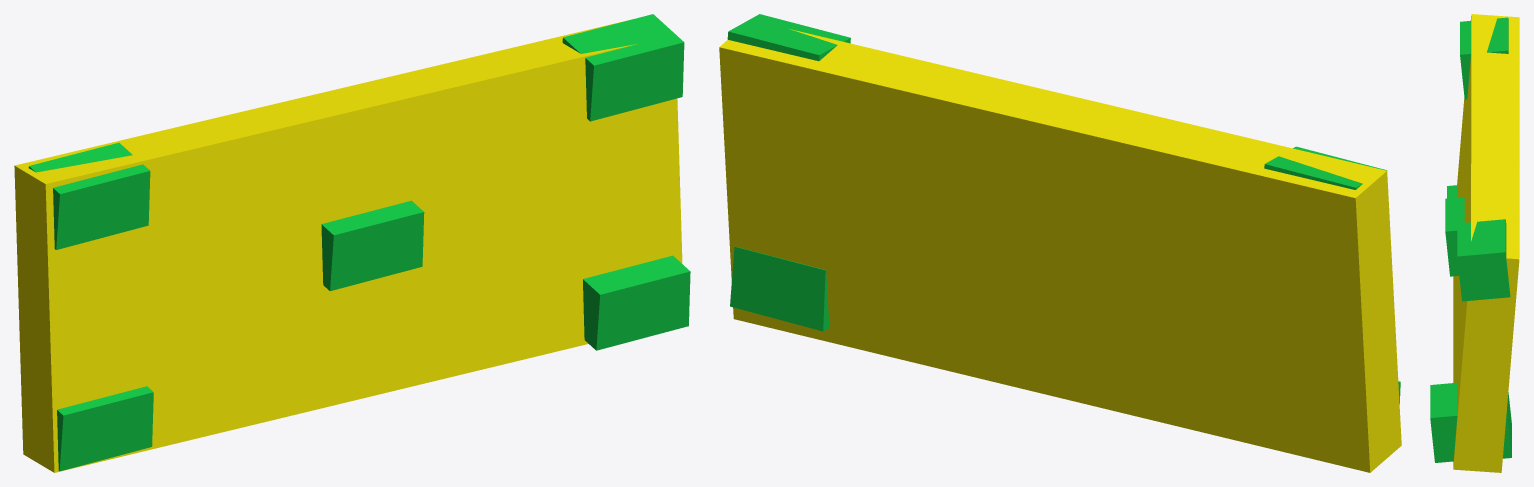
Rendered from Gabp1.glb.
The picture shows the model from 3 angles, left to right: view 1: azimuth 30°, elevation 25°; view 2: azimuth 150°, elevation 25°; view 3: azimuth 270°, elevation 25°; orthographic projection. The views are drawn at different scales.
Parts seen in each view (by area): view 1: mesh_id42, mesh_id44, mesh_id94, mesh_id69, mesh_id75, mesh_id63; view 2: mesh_id42, mesh_id51, mesh_id44, mesh_id69; view 3: mesh_id42, mesh_id44, mesh_id94, mesh_id69, mesh_id75, mesh_id51, mesh_id63.
Part boxes in pixels (x1,y1,x2,y2): mesh_id42: [14, 20, 682, 472]; mesh_id44: [562, 14, 684, 121]; mesh_id94: [583, 255, 690, 350]; mesh_id69: [28, 142, 150, 249]; mesh_id75: [321, 200, 424, 291]; mesh_id63: [57, 386, 153, 471]; mesh_id42: [719, 29, 1401, 472]; mesh_id51: [730, 246, 829, 331]; mesh_id44: [727, 14, 850, 61]; mesh_id69: [1264, 146, 1386, 189]; mesh_id42: [1453, 14, 1519, 472]; mesh_id44: [1457, 219, 1510, 301]; mesh_id94: [1430, 382, 1457, 462]; mesh_id69: [1460, 17, 1508, 99]; mesh_id75: [1445, 197, 1464, 276]; mesh_id51: [1503, 392, 1511, 458]; mesh_id63: [1447, 185, 1457, 198].
Size of the model in its own units: 1.17 by 0.5038 by 0.1844.
Materials: 2 (2 with a texture image).
